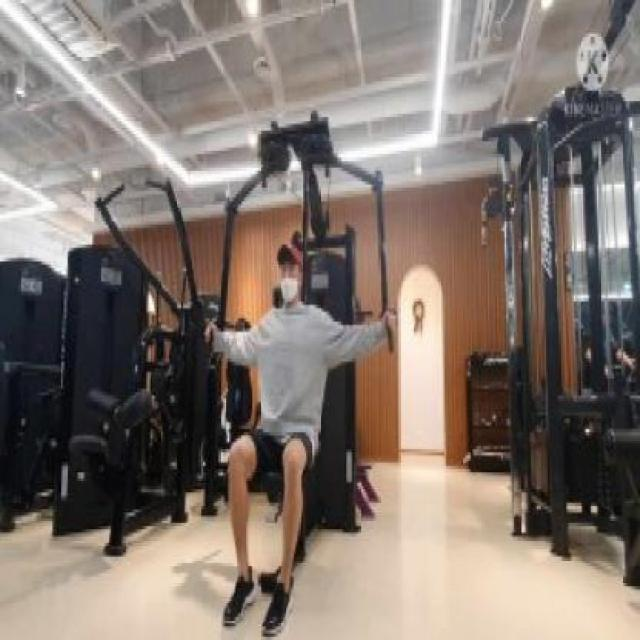chest fly machine: (132, 77, 428, 640)
